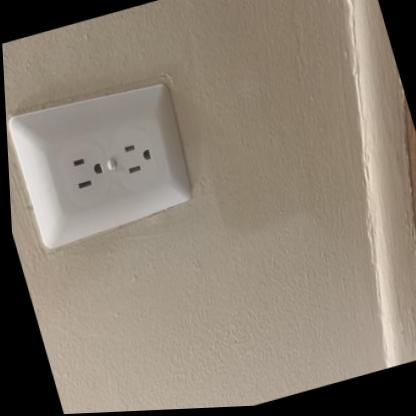OUTLET: (4, 72, 207, 254)
